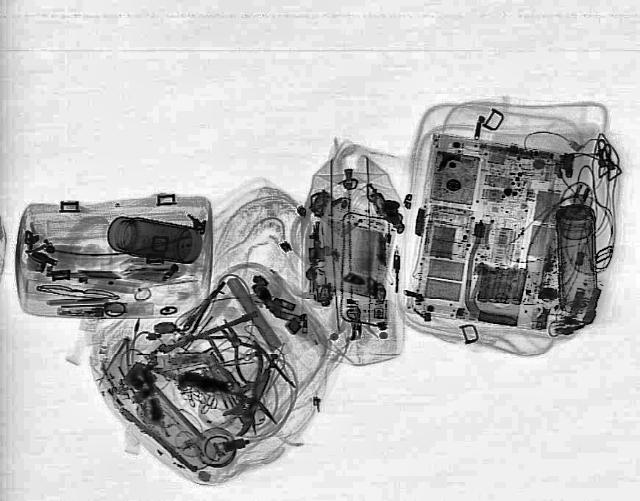Pliers: (205, 340, 292, 438), (202, 313, 280, 385)
